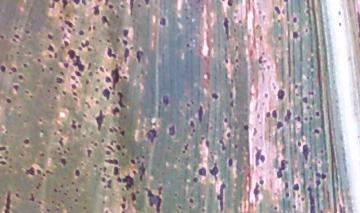tarspot: (145, 186, 164, 213), (110, 65, 130, 86), (305, 184, 319, 213), (215, 181, 227, 213), (273, 158, 290, 180), (116, 175, 136, 190), (2, 189, 14, 213), (93, 108, 106, 130), (207, 162, 222, 181), (254, 145, 266, 167), (221, 15, 232, 38), (137, 162, 148, 184), (301, 143, 312, 163), (252, 180, 262, 202), (104, 46, 119, 60), (133, 48, 146, 63), (281, 106, 294, 121), (146, 126, 157, 143), (23, 166, 37, 179), (73, 59, 87, 72), (104, 156, 122, 166), (275, 87, 287, 102), (272, 4, 284, 18), (19, 136, 34, 147), (91, 3, 102, 18), (101, 87, 112, 102), (311, 170, 329, 179), (115, 90, 125, 106), (197, 103, 205, 123), (209, 91, 222, 103), (99, 15, 112, 27), (102, 177, 115, 189), (122, 47, 131, 63), (84, 147, 96, 159), (79, 37, 90, 50), (62, 19, 76, 29), (67, 48, 77, 62), (167, 123, 177, 137), (157, 15, 168, 27), (109, 106, 121, 117), (311, 126, 323, 137), (129, 191, 139, 204), (161, 93, 171, 106), (312, 177, 325, 187), (27, 191, 37, 204), (41, 167, 54, 177), (54, 75, 65, 86), (336, 202, 347, 213), (4, 95, 14, 107), (197, 165, 207, 177), (58, 156, 68, 168), (224, 157, 236, 167), (128, 1, 136, 16), (241, 121, 251, 133), (291, 29, 301, 41), (202, 138, 212, 150), (219, 137, 227, 152), (57, 136, 65, 151), (256, 54, 266, 66), (228, 98, 237, 111), (271, 108, 279, 122), (273, 122, 287, 130), (44, 31, 55, 41), (62, 38, 72, 49), (121, 37, 131, 48), (290, 182, 301, 192), (227, 75, 237, 86), (122, 27, 131, 39), (112, 165, 121, 177), (224, 129, 233, 141), (11, 83, 21, 93), (302, 6, 312, 16), (22, 87, 32, 97), (68, 122, 79, 131), (187, 195, 196, 206), (118, 127, 127, 138), (262, 91, 271, 102), (104, 143, 115, 152), (335, 20, 346, 29), (8, 65, 20, 73), (96, 65, 108, 73), (232, 43, 240, 55), (198, 205, 210, 213), (264, 109, 271, 122), (45, 43, 55, 52), (61, 1, 70, 11), (61, 90, 71, 99), (232, 140, 241, 150), (232, 56, 241, 66), (72, 186, 82, 195), (22, 61, 30, 72), (225, 1, 236, 9), (295, 139, 303, 150), (301, 95, 309, 106), (291, 15, 299, 26), (227, 89, 235, 100), (1, 63, 8, 75), (16, 72, 25, 81), (23, 27, 32, 36), (77, 28, 86, 37), (73, 168, 82, 177), (12, 32, 21, 41), (120, 194, 129, 203), (307, 89, 316, 98), (317, 147, 326, 156), (175, 202, 184, 211), (104, 75, 112, 85), (61, 61, 71, 69), (83, 78, 91, 88), (114, 142, 122, 152), (283, 189, 291, 199), (294, 113, 302, 123), (302, 115, 312, 123), (183, 101, 191, 111), (99, 198, 109, 206), (79, 203, 89, 211), (73, 72, 84, 79), (222, 115, 229, 126), (283, 179, 290, 190), (183, 141, 190, 152), (223, 56, 230, 67), (276, 33, 283, 44), (91, 23, 98, 34), (14, 191, 22, 200), (119, 201, 127, 210), (70, 83, 79, 91), (92, 86, 100, 95), (314, 110, 322, 119), (130, 156, 136, 168), (130, 167, 138, 176), (98, 174, 107, 182), (272, 204, 280, 213), (190, 175, 198, 184), (183, 41, 191, 50), (291, 81, 299, 90), (258, 177, 265, 187), (189, 119, 196, 129), (34, 56, 44, 63), (237, 16, 243, 27), (107, 3, 115, 11), (139, 153, 147, 161), (1, 145, 10, 152), (291, 202, 298, 211), (51, 186, 58, 195), (316, 158, 323, 167), (1, 159, 9, 166), (36, 168, 43, 176), (44, 206, 52, 213), (95, 98, 100, 109), (39, 151, 45, 160), (73, 196, 79, 205), (48, 51, 53, 61), (47, 65, 54, 72), (72, 1, 81, 6), (142, 1, 151, 6), (1, 33, 6, 41)
